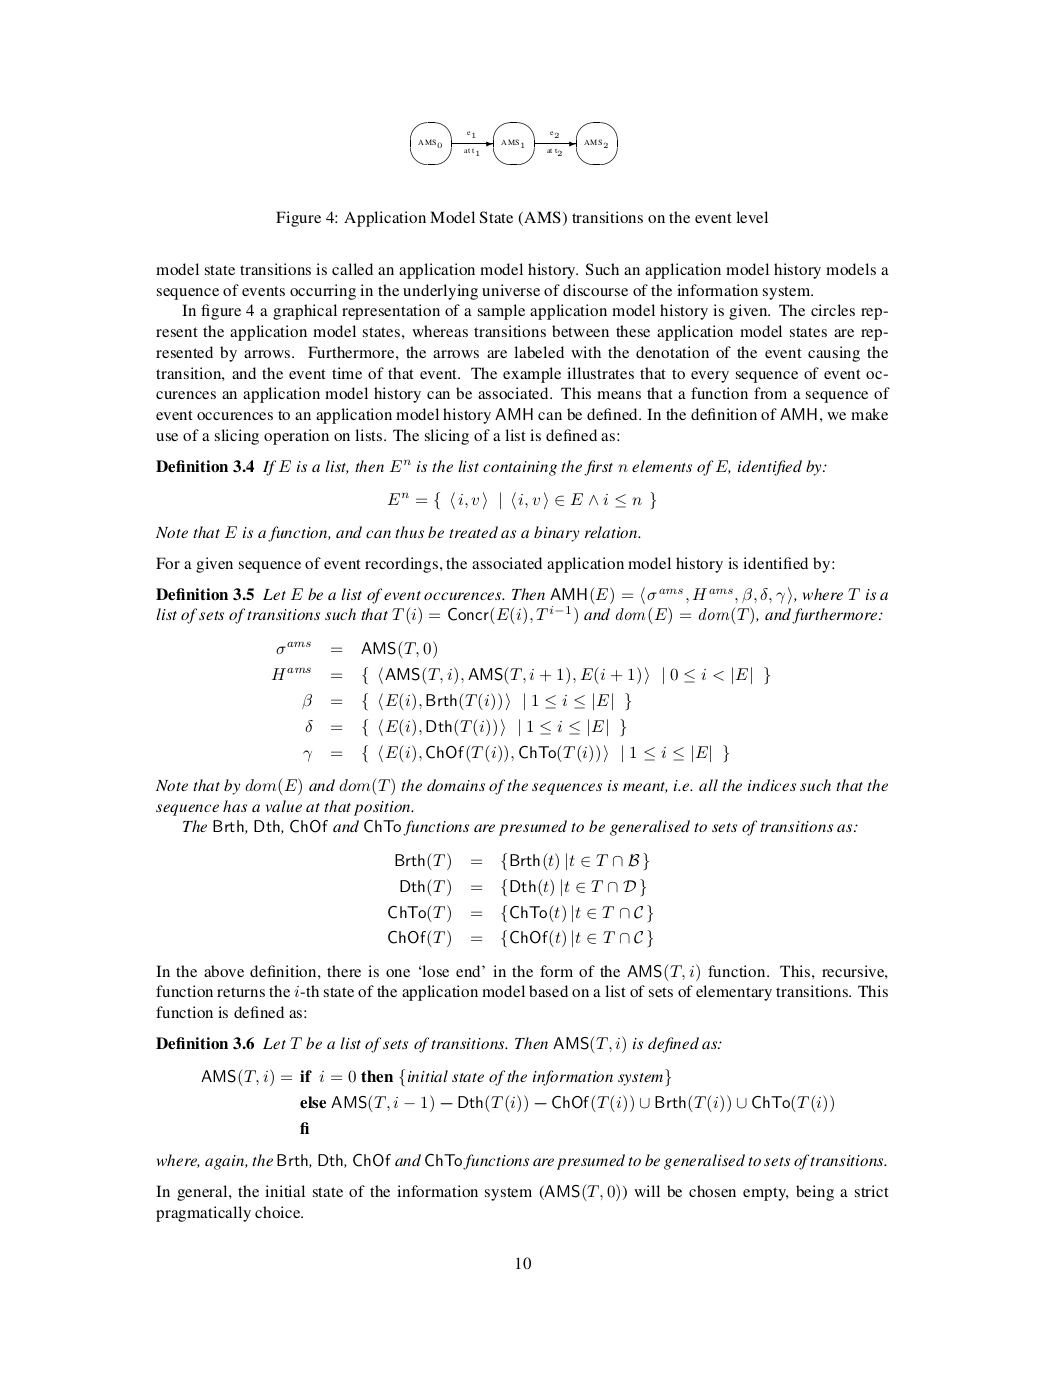figure: (410, 121, 617, 165)
formula: (300, 1094, 833, 1113), (271, 666, 769, 685), (201, 1068, 670, 1087), (303, 744, 728, 763), (302, 692, 630, 711), (305, 718, 625, 737), (387, 491, 655, 510), (388, 904, 652, 923), (388, 929, 652, 948), (395, 853, 648, 871), (400, 878, 645, 897), (276, 640, 436, 659)
